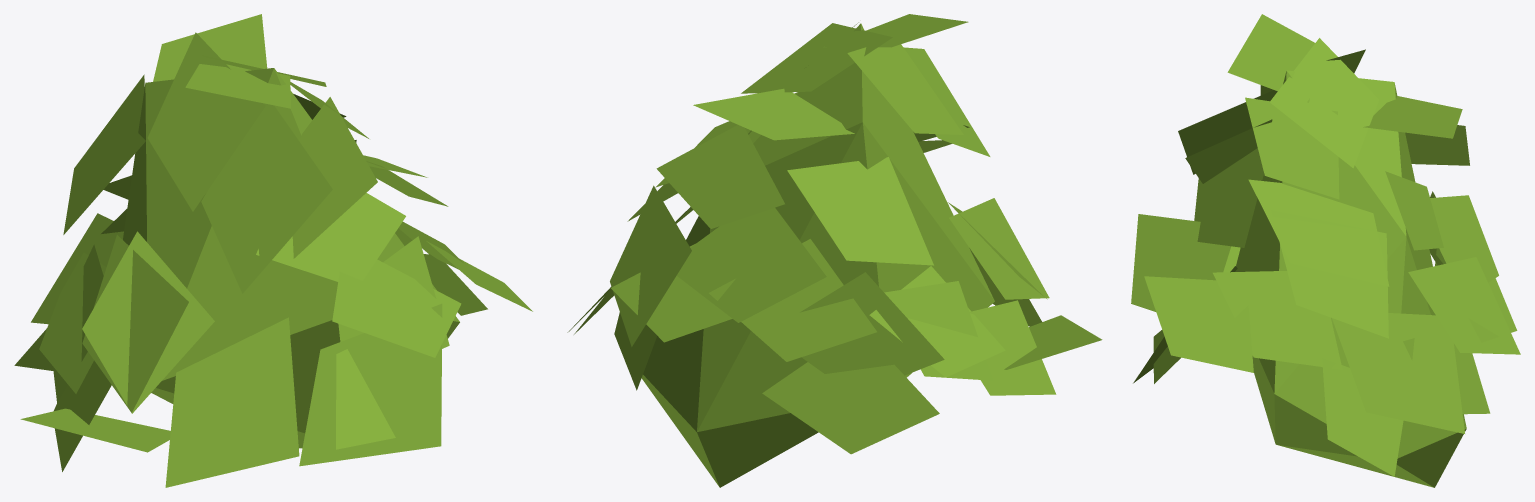
Rendered from SM_Leaves_Bunch_D.fbx.
3 views of the same model, side by side, from view 1: azimuth 30°, elevation 25°; view 2: azimuth 150°, elevation 25°; view 3: azimuth 270°, elevation 25° (orthographic). The views are drawn at different scales.
Parts seen in each view (by area): view 1: leaves-bunch-d; view 2: leaves-bunch-d; view 3: leaves-bunch-d.
Boxes of the visible parts, <box> form: leaves-bunch-d: <box>14,14,532,487</box>; leaves-bunch-d: <box>567,14,1102,487</box>; leaves-bunch-d: <box>1131,14,1520,487</box>.
Bounding box in the file's own units: 0.6413 × 0.5709 × 0.4998.
